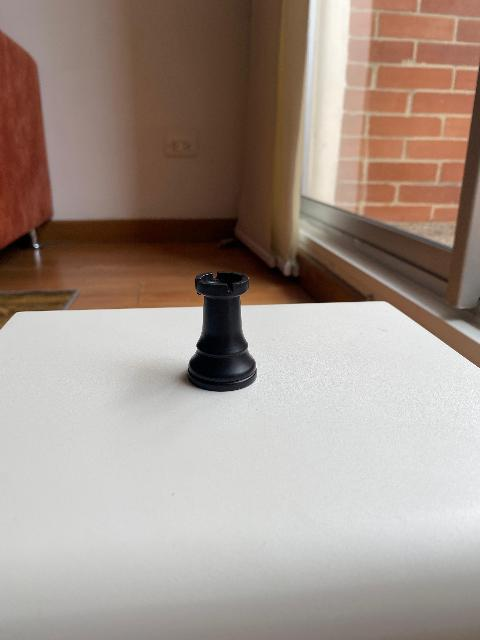black-rook: (188, 270, 258, 392)
